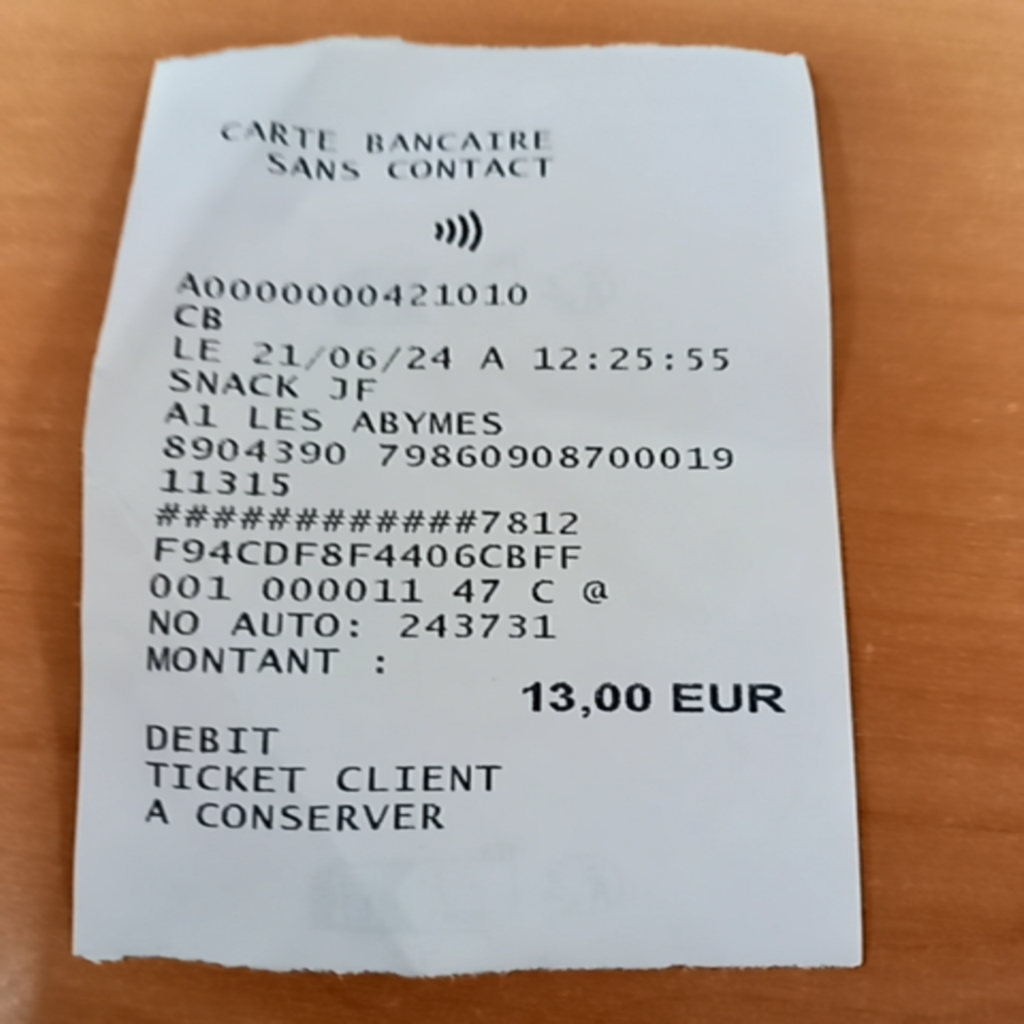recipt: (73, 34, 862, 978)
